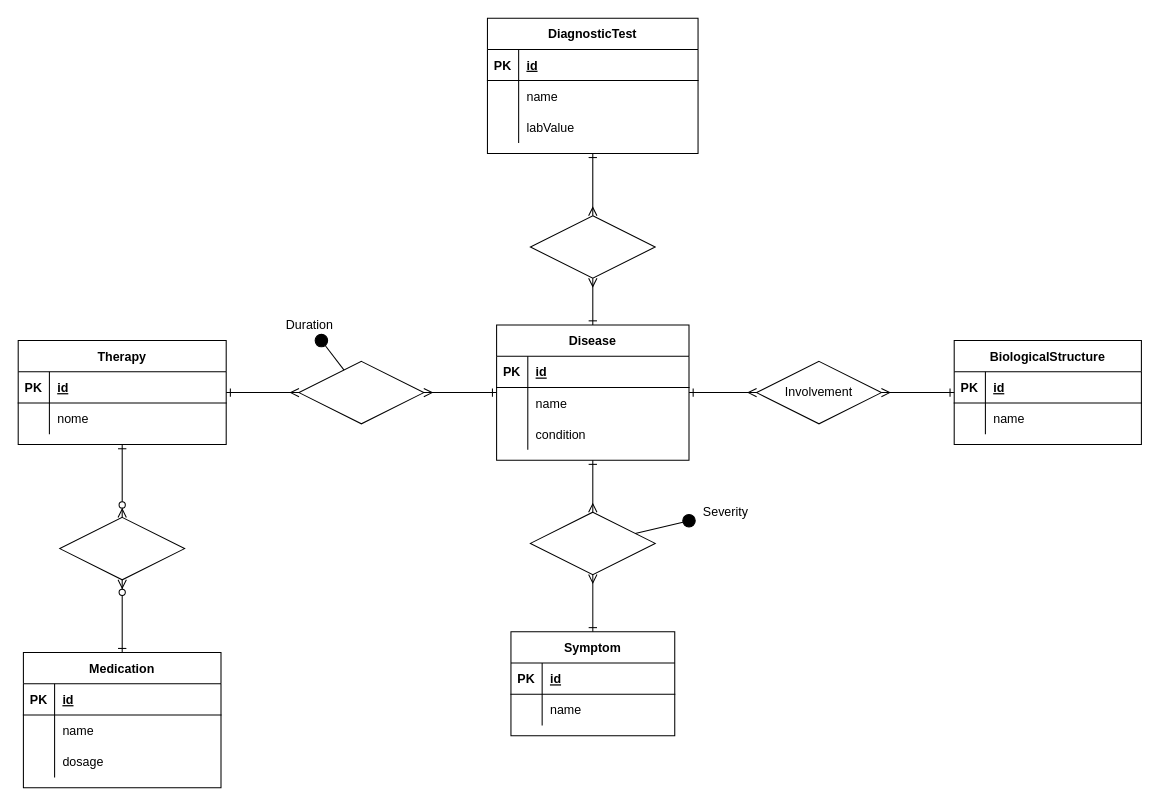
Image size: 1160x806. Some labels were removed from this diagram. The centre of each missing label's shape, as x and y in pixels:
Diagnosis: point 592,246
Manifestation: point 592,543
Prescription: point 122,548
Treatment: point 361,392
